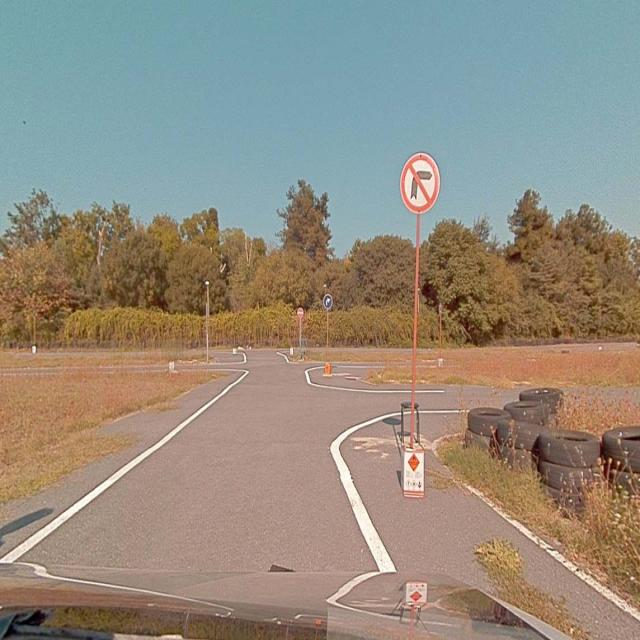girisyok: (297, 308, 303, 318)
sag: (324, 294, 333, 310)
sagadonulmez: (400, 153, 440, 211)
